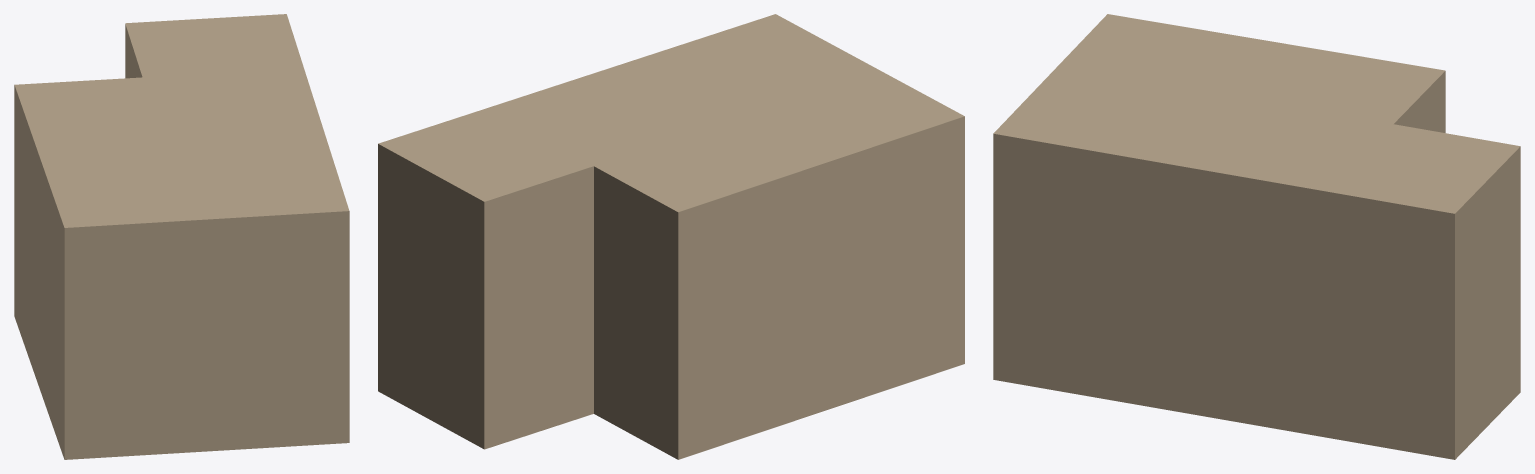
File: bld_99020477.dae
3 views of the same model, side by side, from view 1: azimuth 30°, elevation 25°; view 2: azimuth 150°, elevation 25°; view 3: azimuth 270°, elevation 25° (orthographic). The views are drawn at different scales.
Visible parts, largest first — view 1: bld_99020477; view 2: bld_99020477; view 3: bld_99020477.
Part boxes in pixels (x1,y1,x2,y2): bld_99020477: (14, 14, 349, 459); bld_99020477: (378, 14, 964, 459); bld_99020477: (993, 14, 1520, 459).
Bounding box in the file's own units: 13.93 × 15.54 × 8.
